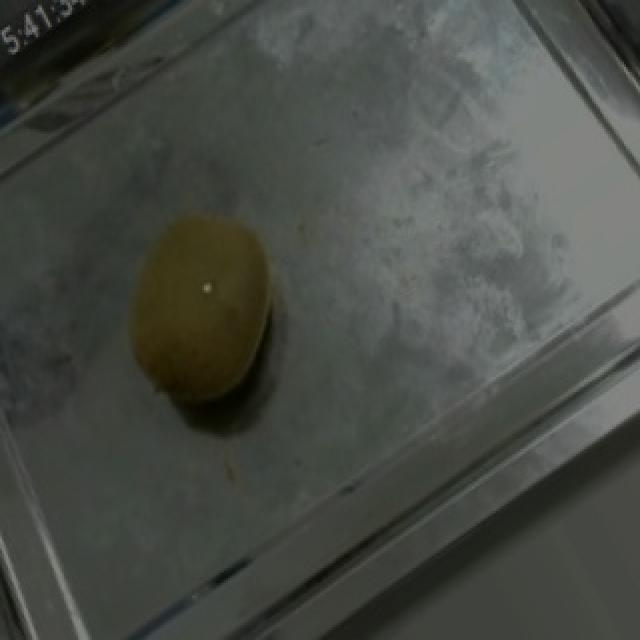Fruit: (88, 174, 316, 446)
